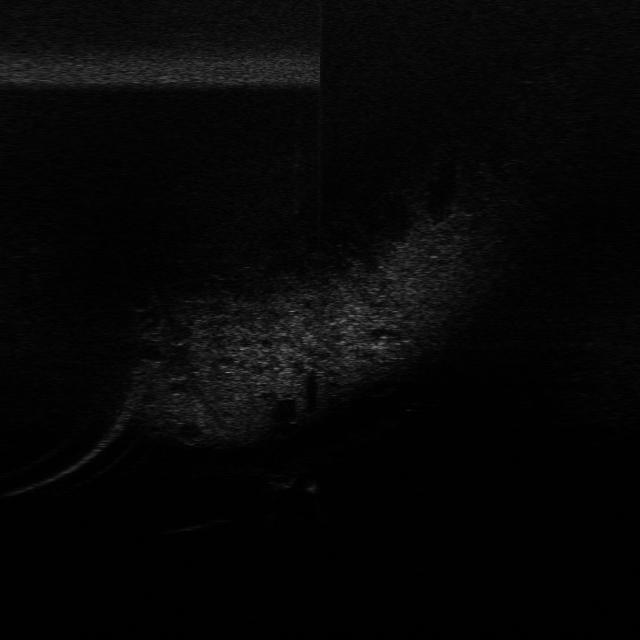cube: (300, 473, 322, 496)
cylinder: (264, 468, 297, 490)
